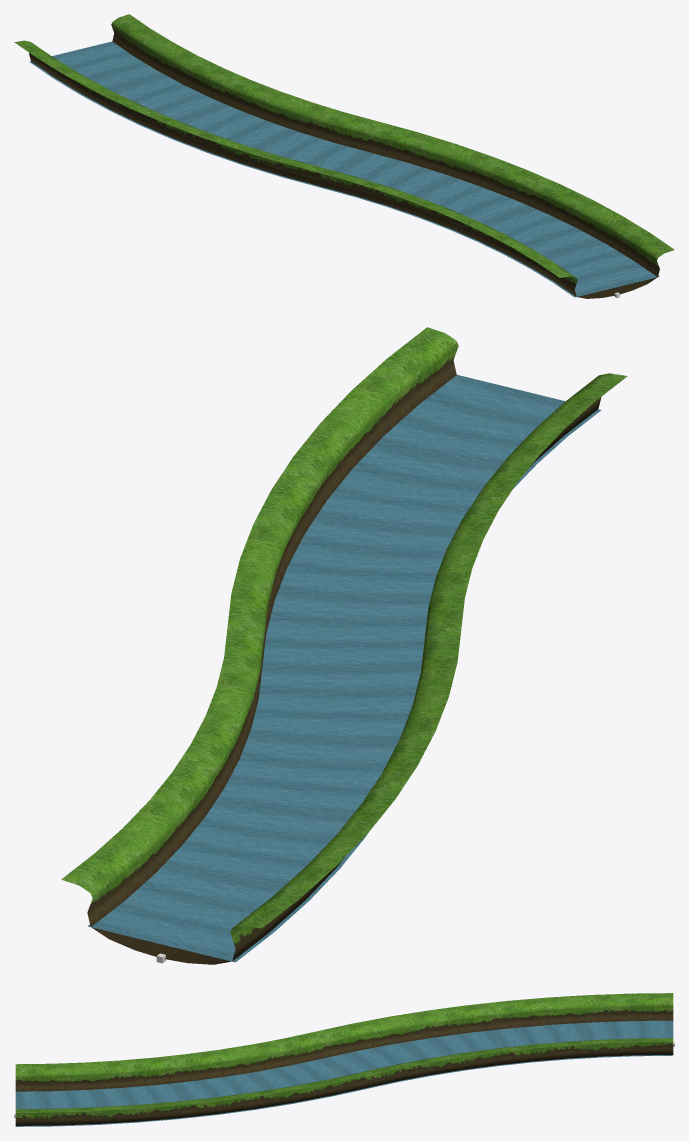
The model's file is roadShift.left2.fbx.
The picture shows the model from 3 angles, top to bottom: view 1: azimuth 30°, elevation 25°; view 2: azimuth 150°, elevation 25°; view 3: azimuth 270°, elevation 25°; orthographic projection. The views are drawn at different scales.
Parts seen in each view (by area): view 1: MESH roadShift.left2; view 2: MESH roadShift.left2; view 3: MESH roadShift.left2.
Part boxes in pixels (x1,y1,x2,y2): MESH roadShift.left2: [14, 14, 674, 298]; MESH roadShift.left2: [61, 327, 627, 964]; MESH roadShift.left2: [15, 993, 673, 1126].
Size of what is drawn, in the model's own units: 4147 by 463 by 9650.
